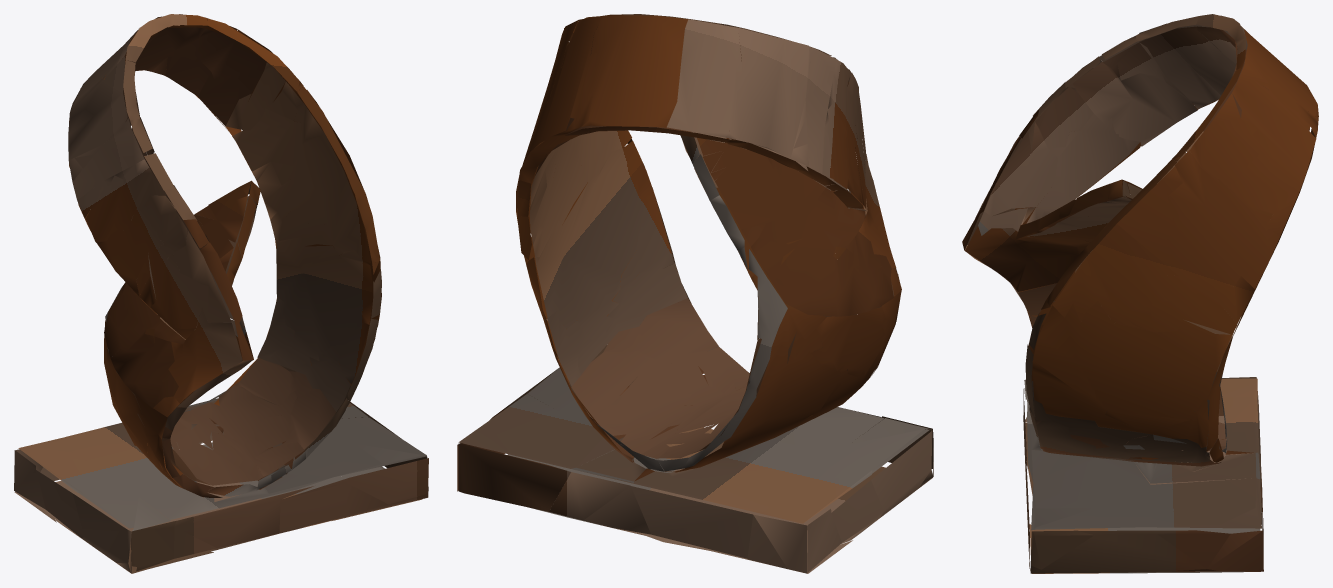
Rendered from art1.glb.
3 renders of one model, left to right at view 1: azimuth 30°, elevation 25°; view 2: azimuth 150°, elevation 25°; view 3: azimuth 270°, elevation 25°, orthographic. The views are drawn at different scales.
Visible parts, largest first — view 1: LO.001; view 2: LO.001; view 3: LO.001.
Part boxes in pixels (<box>): LO.001: <box>14,14,428,573</box>; LO.001: <box>457,14,933,573</box>; LO.001: <box>962,14,1318,573</box>.
Size of the model in its own units: 0.6994 by 0.9818 by 0.6866.
1 material, 1 textured.
